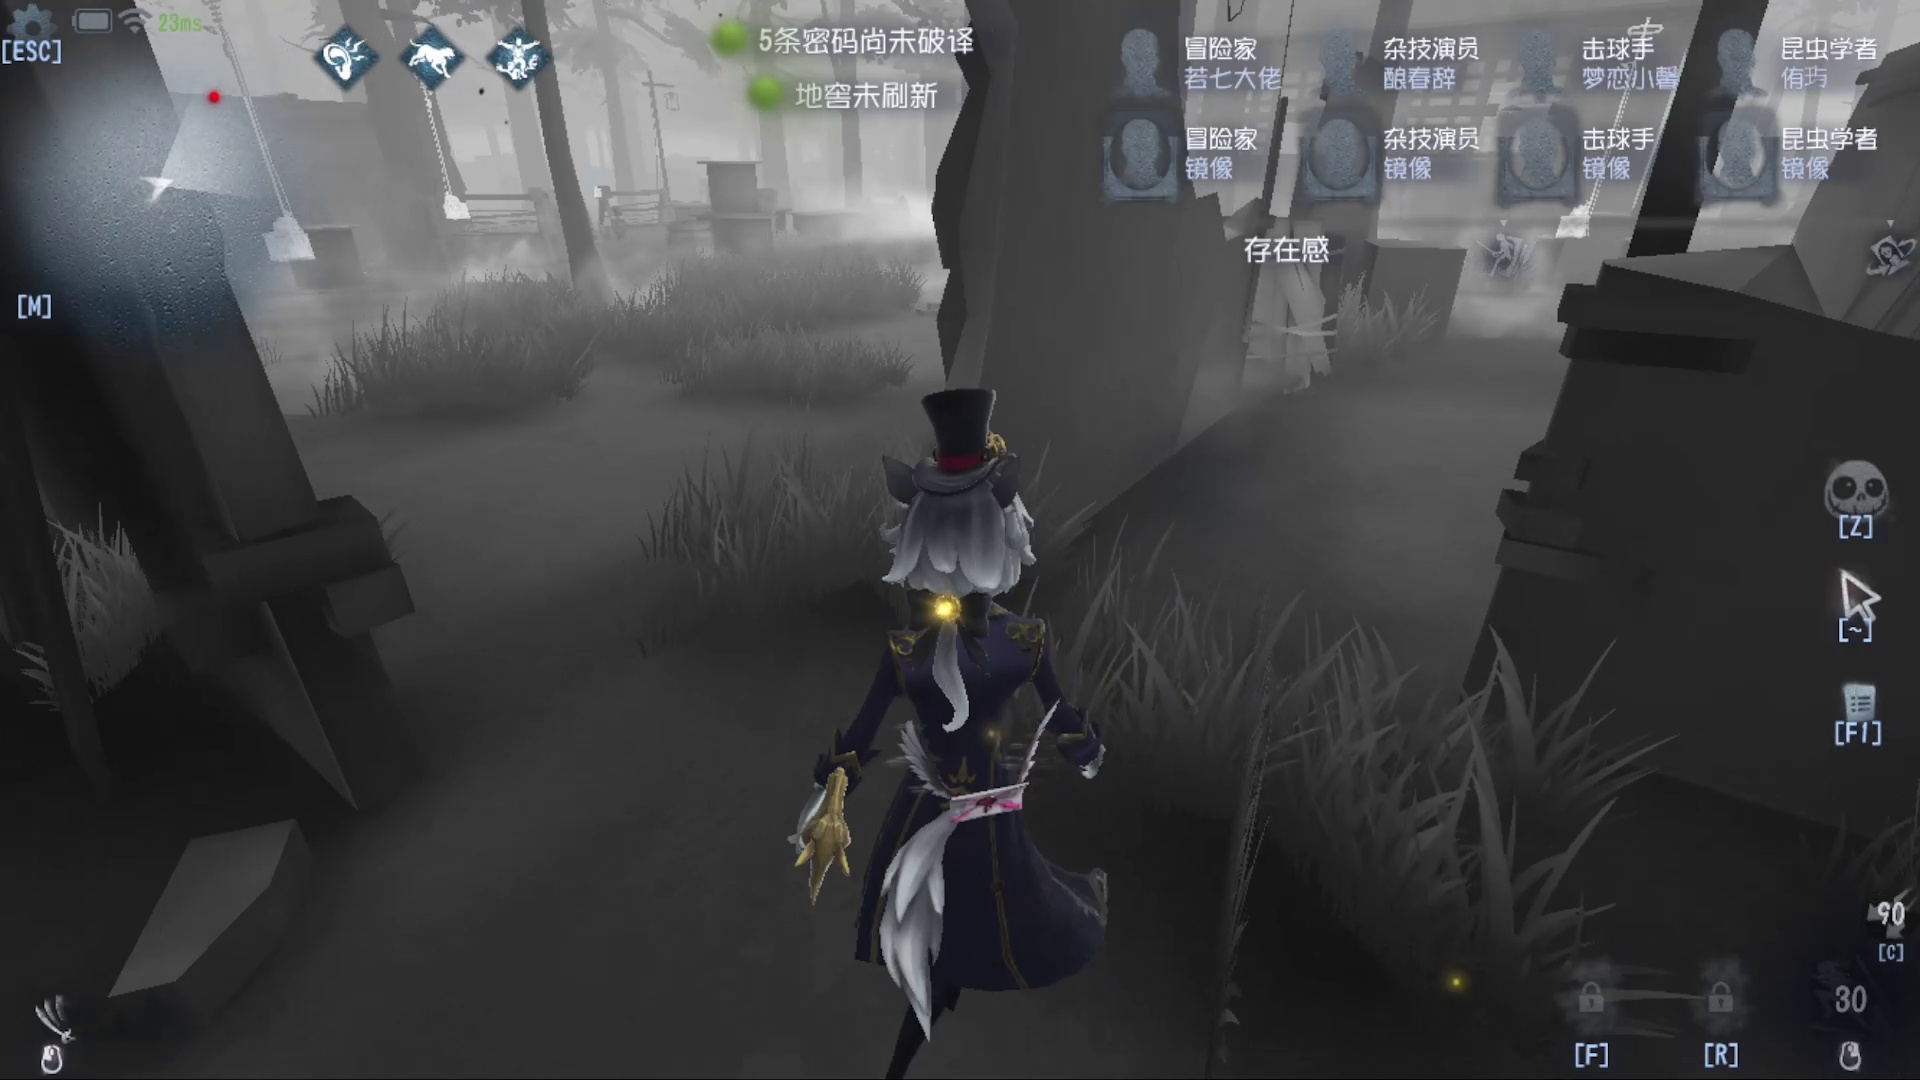密码机: (191, 22, 332, 272), (402, 58, 483, 233)
求生者: (605, 210, 651, 261)
